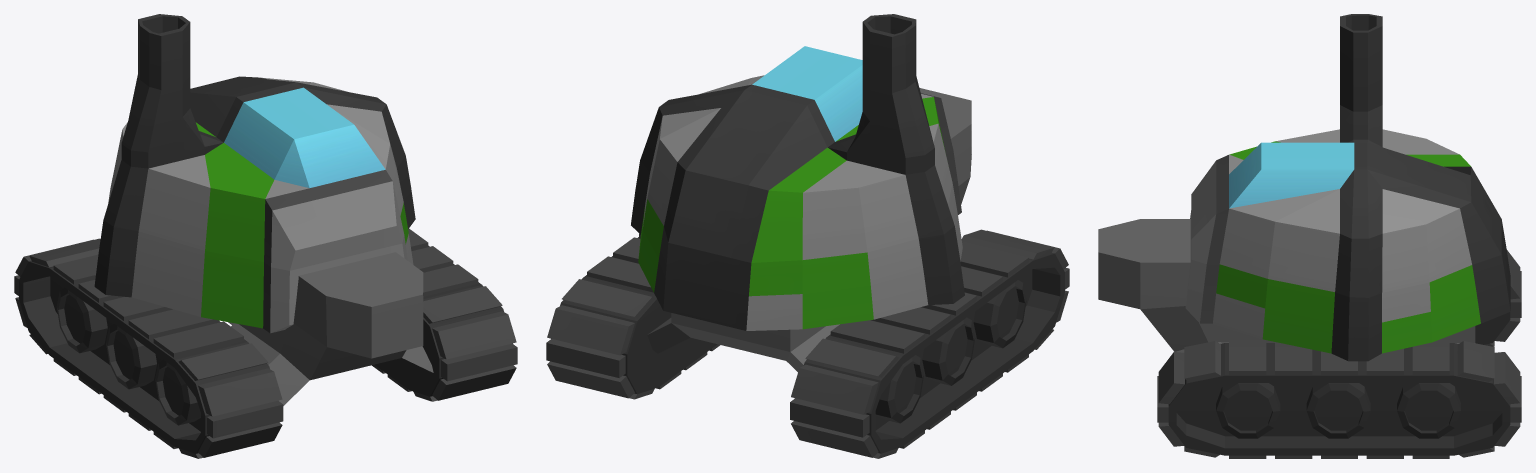
The model's file is Drone_Saw.obj.
3 views of the same model, side by side, from view 1: azimuth 30°, elevation 25°; view 2: azimuth 150°, elevation 25°; view 3: azimuth 270°, elevation 25° (orthographic). The views are drawn at different scales.
Parts seen in each view (by area): view 1: Drone_Saw; view 2: Drone_Saw; view 3: Drone_Saw.
Part boxes in pixels (x1,y1,x2,y2): Drone_Saw: (14, 14, 517, 458); Drone_Saw: (546, 14, 1069, 458); Drone_Saw: (1098, 14, 1521, 458).
Size of the model in its own units: 5.02 by 5.53 by 6.47.
